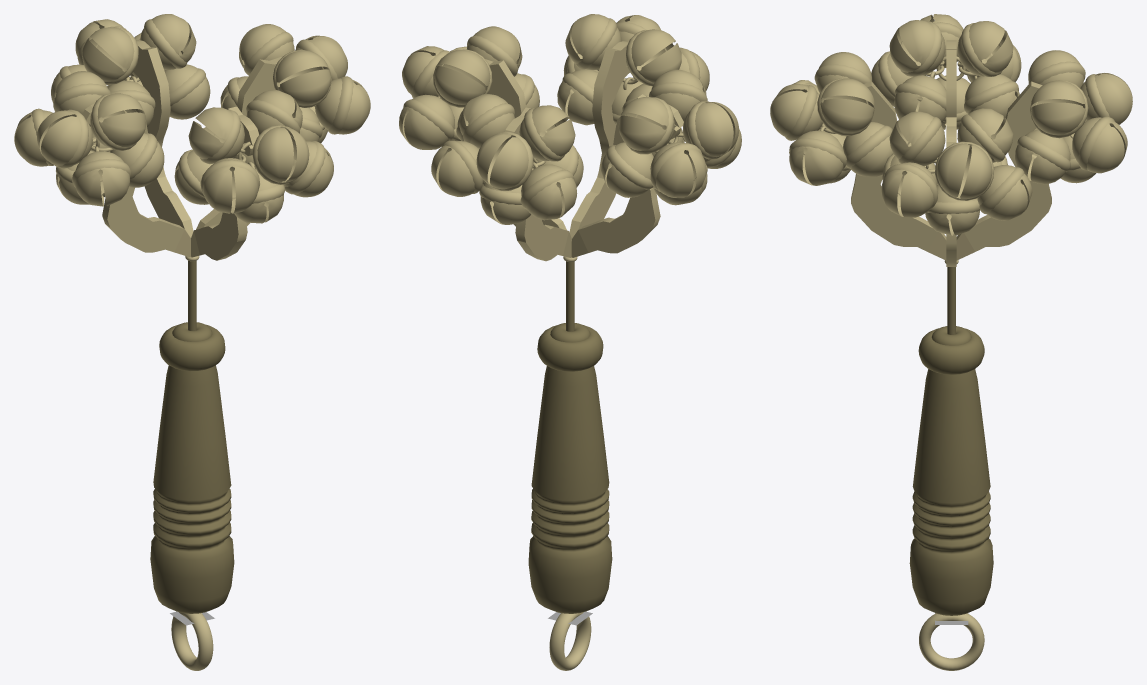
File: bells.fbx
The picture shows the model from 3 angles, left to right: view 1: azimuth 30°, elevation 25°; view 2: azimuth 150°, elevation 25°; view 3: azimuth 270°, elevation 25°; orthographic projection.
Parts seen in each view (by area): view 1: pCylinder2; view 2: pCylinder2; view 3: pCylinder2.
Part boxes in pixels (bbox=[...]): pCylinder2: bbox=[14, 14, 370, 670]; pCylinder2: bbox=[399, 14, 741, 670]; pCylinder2: bbox=[770, 14, 1132, 670].
Bounding box in the file's own units: 10.91 × 20.02 × 10.91.
